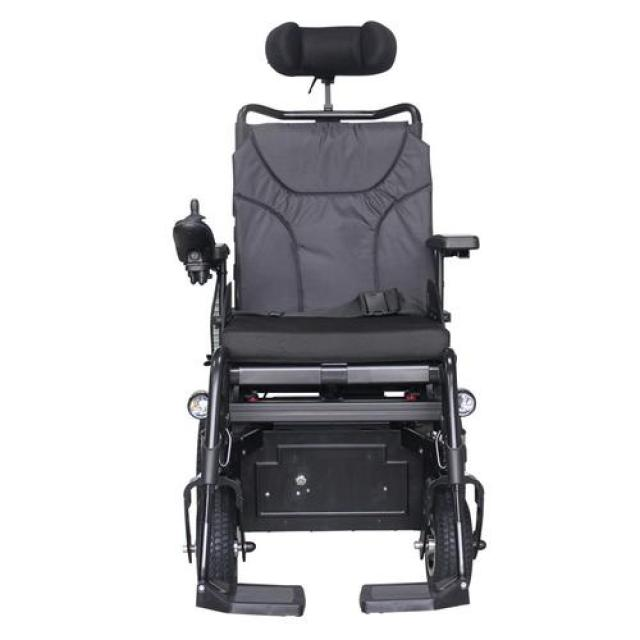wheelchairs: (135, 17, 525, 628)
